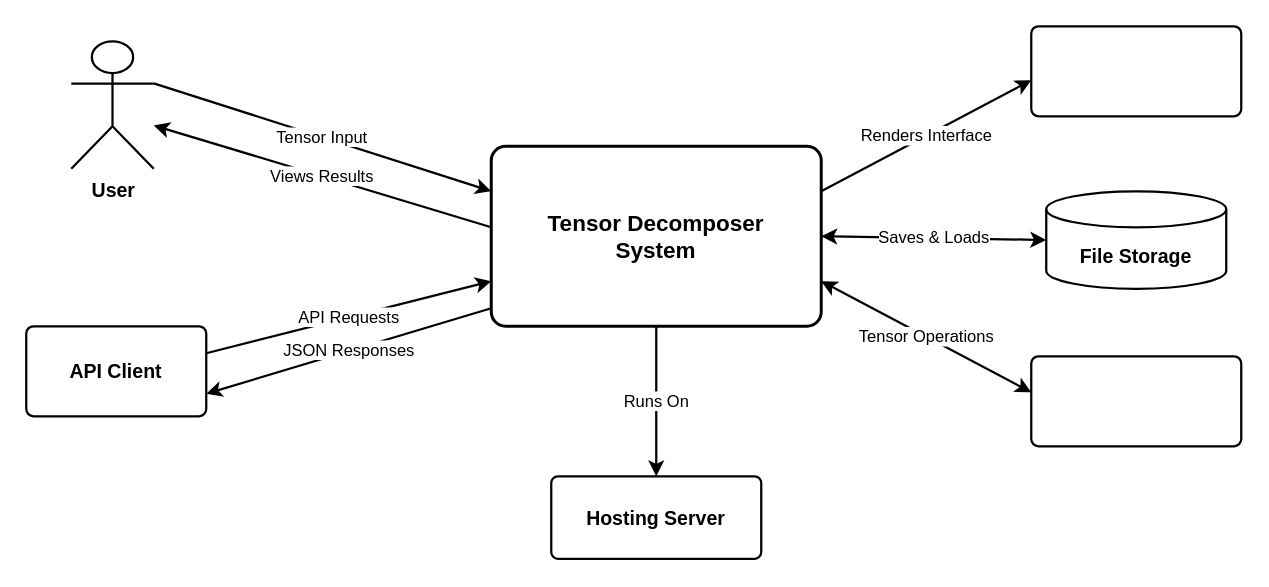
Image size: 1269x587. Some labels were removed from this diagram. Each missing label, with the box of its shape:
Numerical Stack NumPy / SciPy: (1029, 354, 1242, 447)
Web Browser: (1029, 24, 1242, 117)
